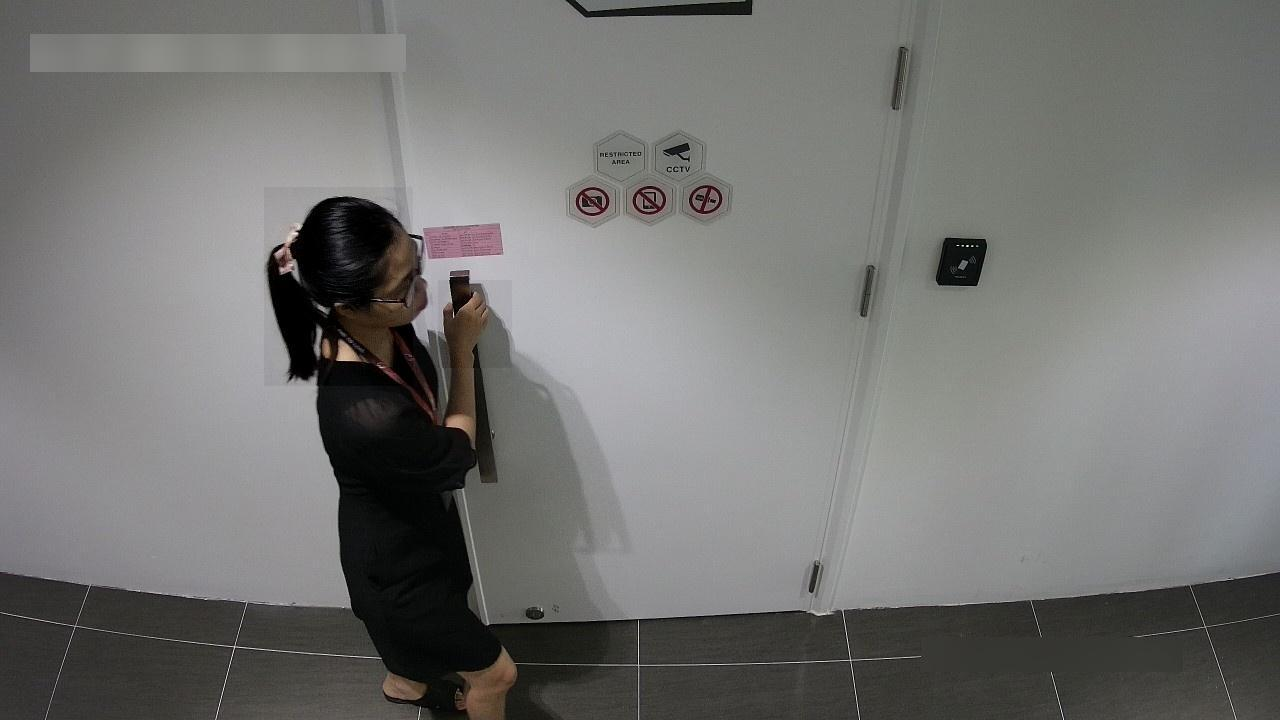no_apron: (439, 281, 513, 369)
no_gloves: (265, 187, 414, 386)
no_hairnet: (368, 275, 432, 345)
